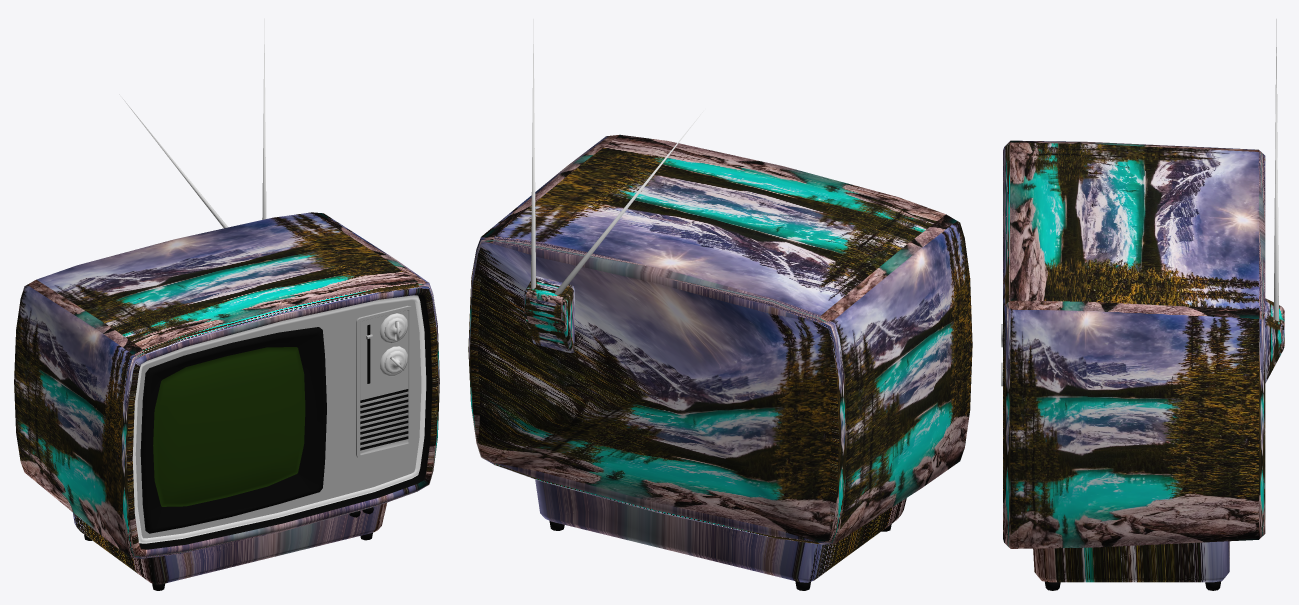
File: TV_model_BEAITFUL-BANFF_3D.gltf
The picture shows the model from 3 angles, left to right: view 1: azimuth 30°, elevation 25°; view 2: azimuth 150°, elevation 25°; view 3: azimuth 270°, elevation 25°; orthographic projection. The views are drawn at different scales.
Visible parts, largest first — view 1: Retro_TV; view 2: Retro_TV; view 3: Retro_TV.
Part boxes in pixels (x1,y1,x2,y2): Retro_TV: [14, 18, 439, 590]; Retro_TV: [468, 19, 972, 590]; Retro_TV: [1001, 19, 1284, 590].
Size of the model in its own units: 110 by 150 by 71.95.
7 materials, 1 textured.
